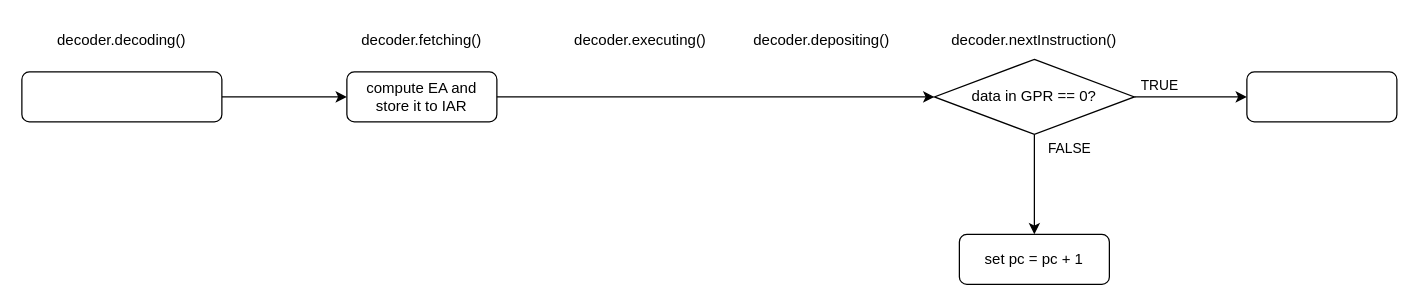
The diagram is 1419 pixels wide and 306 high, and some of its shapes have lost their labels. Here are the shapes that lost their labels. From the top down, the centre of each, then its label:
At point (121, 96): "decode the instruction and opcode = 8".
At point (1321, 96): "set pc with data in IAR".
